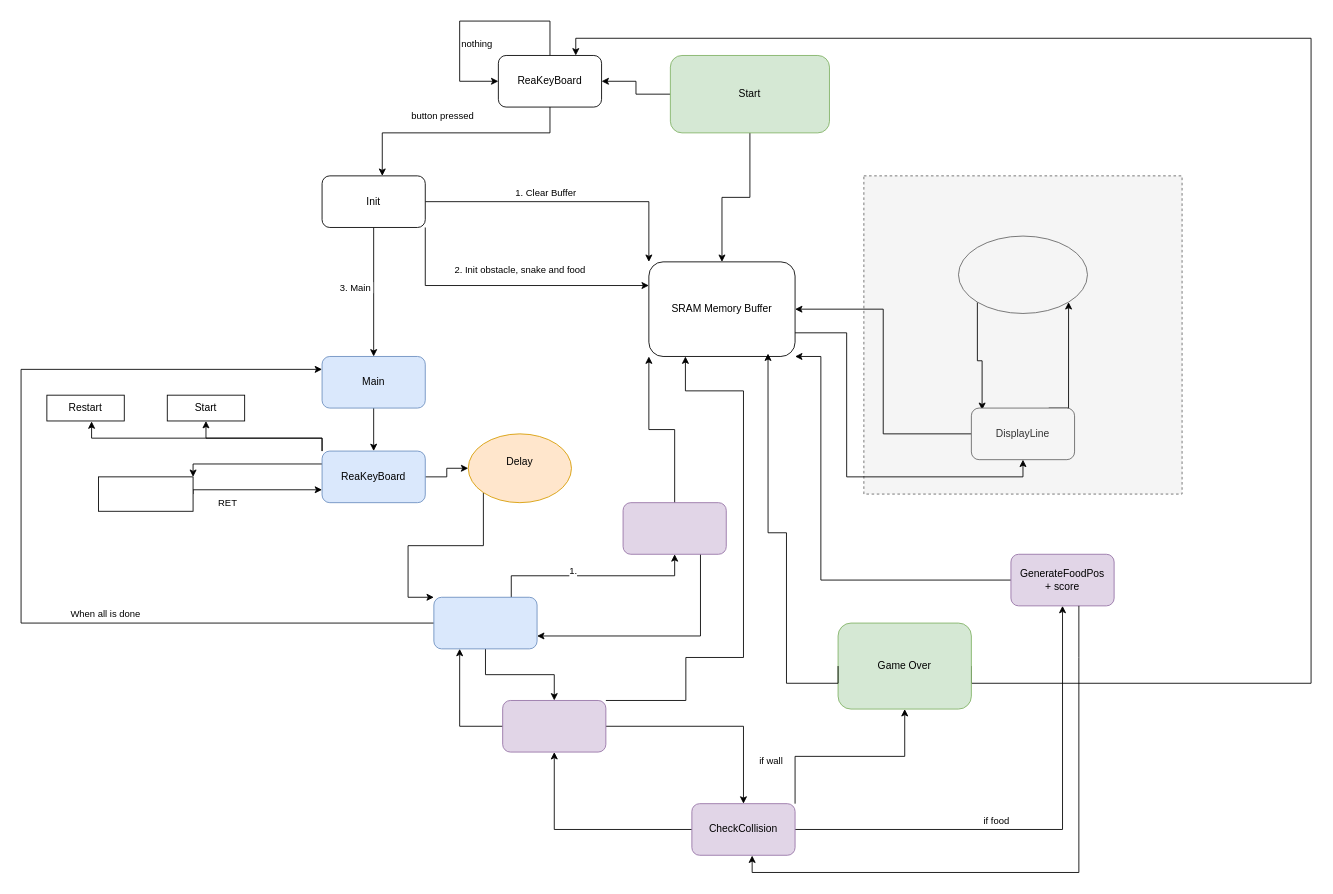
Some shapes in this 1333 by 894 pixel diagram are drawn without their labels. Each missing label, with the box of its shape:
Clear Old Pos: (622, 502, 726, 554)
GetByteAndMask: (502, 700, 606, 752)
Screen Display: (863, 175, 1182, 494)
SnakeMain: (433, 596, 537, 649)
Timer0OverflowInterrupt: (958, 235, 1087, 313)
Update Direction: (98, 476, 193, 511)
